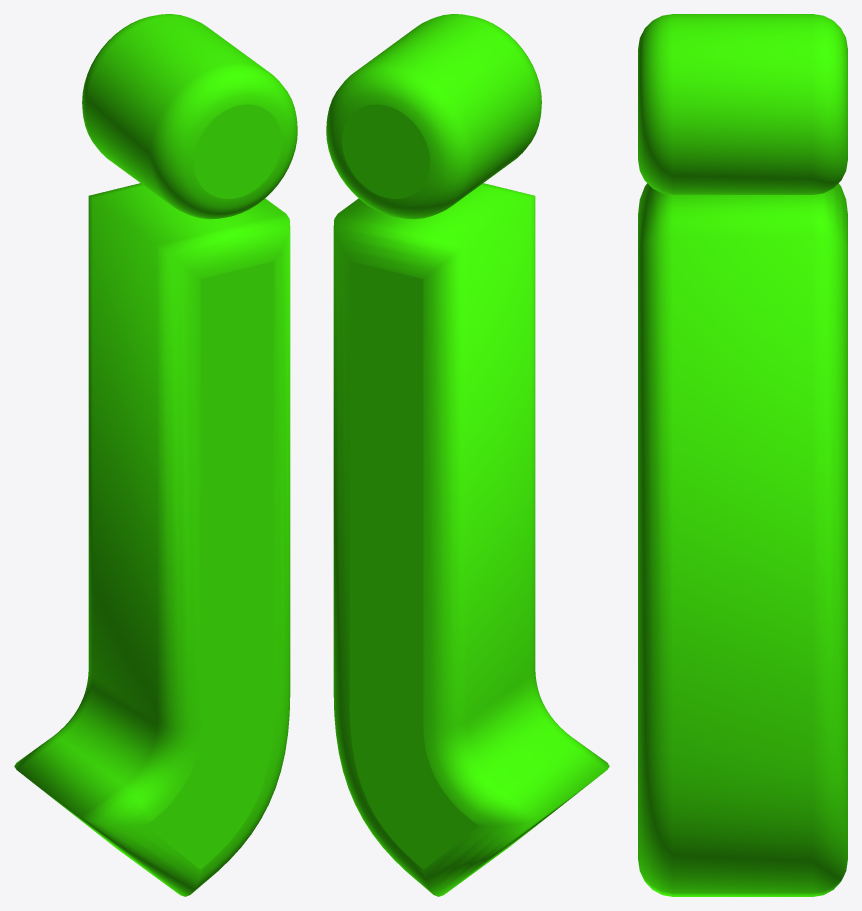
3 renders of one model, left to right at view 1: azimuth 30°, elevation 25°; view 2: azimuth 150°, elevation 25°; view 3: azimuth 270°, elevation 25°, orthographic. The views are drawn at different scales.
Parts seen in each view (by area): view 1: Text; view 2: Text; view 3: Text.
Part boxes in pixels (x1=…): Text: x1=14, y1=14, x2=297, y2=896; Text: x1=326, y1=14, x2=609, y2=896; Text: x1=638, y1=14, x2=847, y2=896.
Bounding box in the file's own units: 0.7689 × 2.83 × 0.6.
